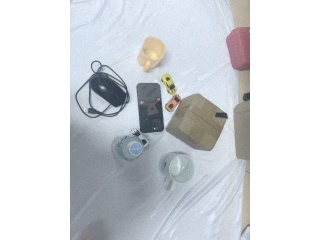bottle: (110, 131, 148, 162)
box: (167, 93, 228, 151)
cup: (158, 151, 195, 187), (136, 36, 167, 73)
mouse: (90, 71, 130, 109)
phone: (134, 79, 165, 132)
toy_car: (131, 127, 151, 148), (160, 73, 177, 94), (165, 95, 180, 112)
